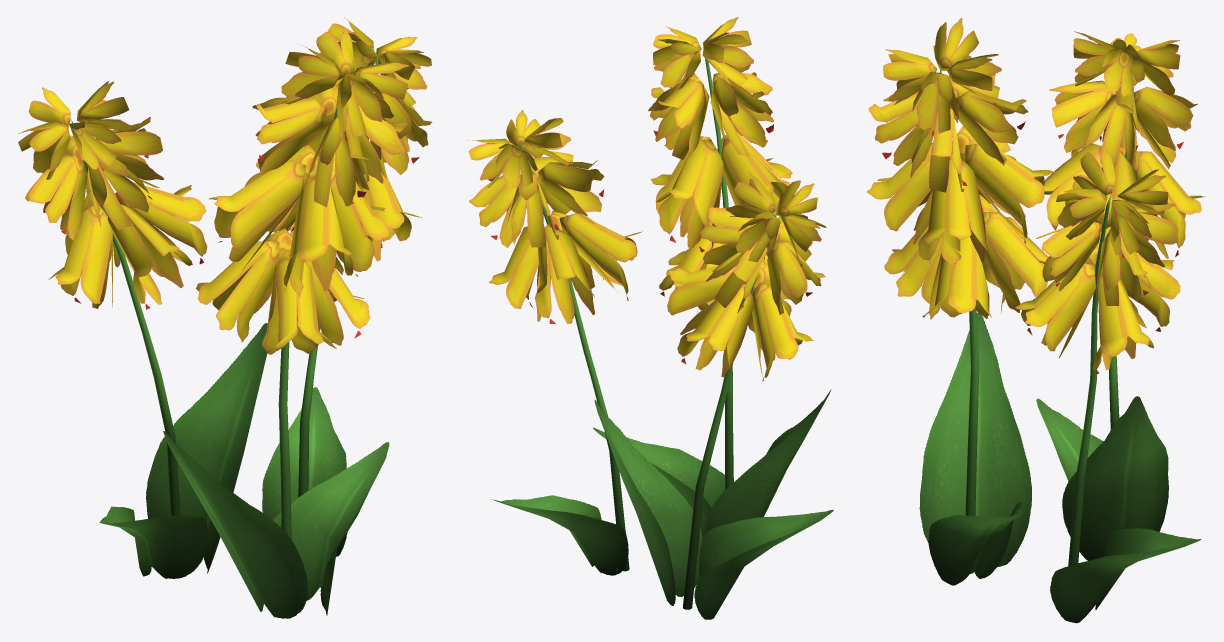
The model's file is Flower_4_Group.gltf.
3 views of the same model, side by side, from view 1: azimuth 30°, elevation 25°; view 2: azimuth 150°, elevation 25°; view 3: azimuth 270°, elevation 25° (orthographic). The views are drawn at different scales.
Visible parts, largest first — view 1: Flower_4_Group; view 2: Flower_4_Group; view 3: Flower_4_Group.
Part boxes in pixels (x1=…): Flower_4_Group: x1=18, y1=17, x2=432, y2=618; Flower_4_Group: x1=467, y1=17, x2=833, y2=619; Flower_4_Group: x1=867, y1=18, x2=1205, y2=623.
Size of the model in its own units: 1.78 by 2.49 by 1.37.
2 materials, 2 textured.
